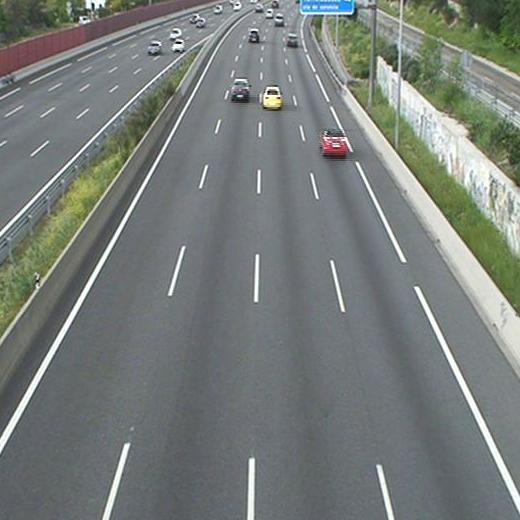car: (319, 128, 348, 159), (261, 85, 283, 110), (232, 78, 250, 102), (249, 29, 260, 43), (288, 34, 298, 46)
